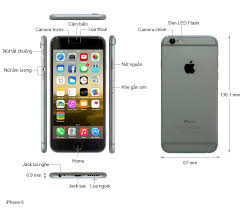iphone: (158, 32, 220, 157), (48, 34, 106, 153)
iphone6: (159, 32, 221, 157), (45, 30, 103, 149)
